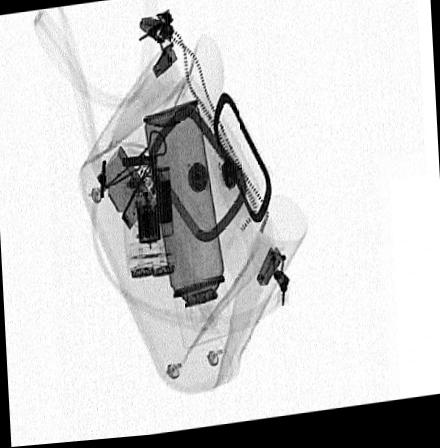Sprayer: (142, 104, 231, 352)
